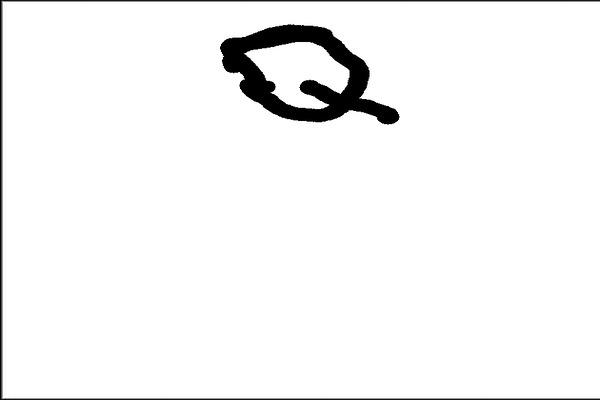Q: (215, 15, 401, 131)
